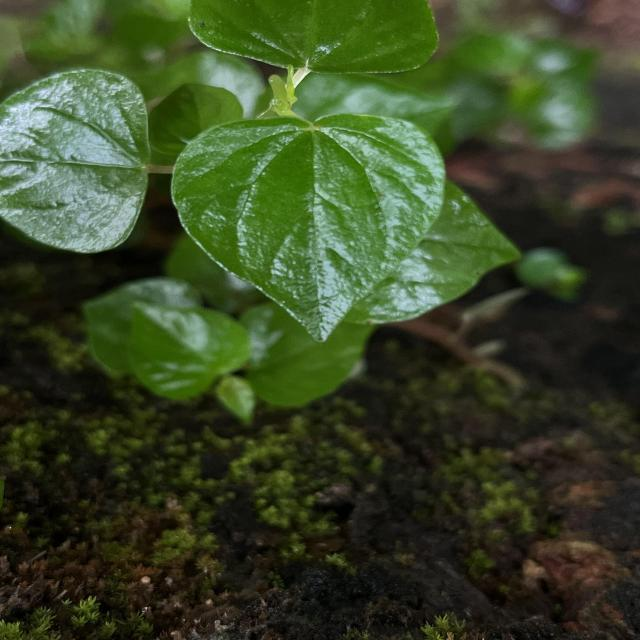Peperomia pellucida: (165, 106, 453, 350)
